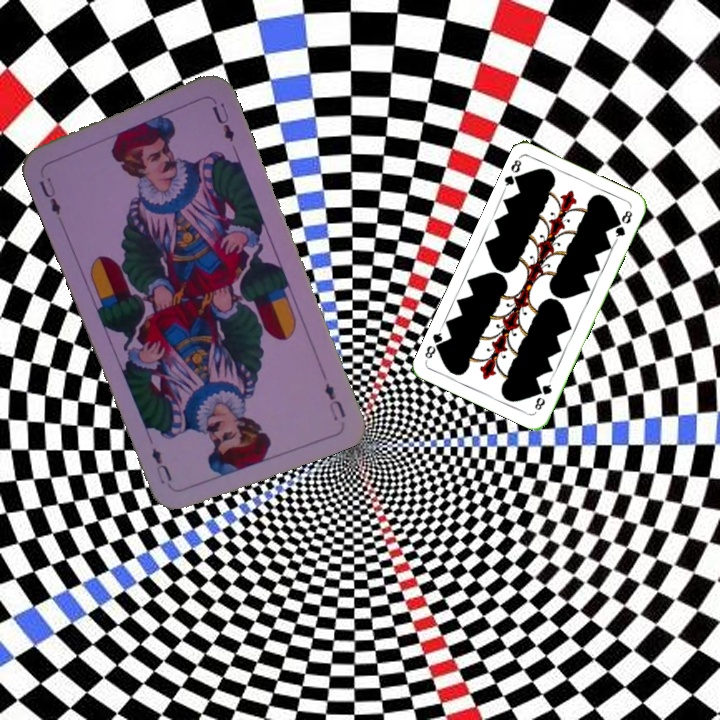EU: (35, 173, 64, 218), (320, 379, 349, 424)
G8: (500, 154, 525, 192), (530, 376, 554, 413)
